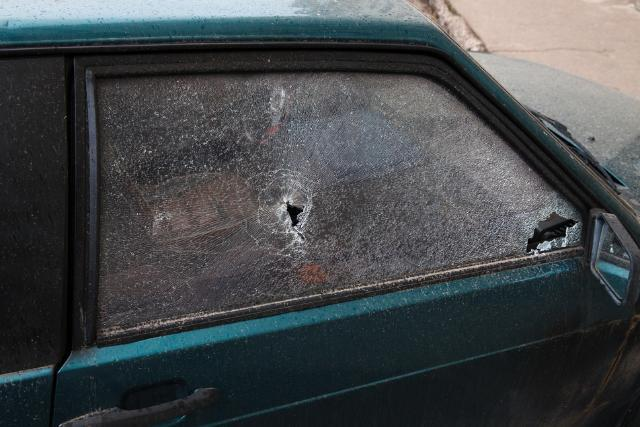Door: (67, 60, 585, 315)
